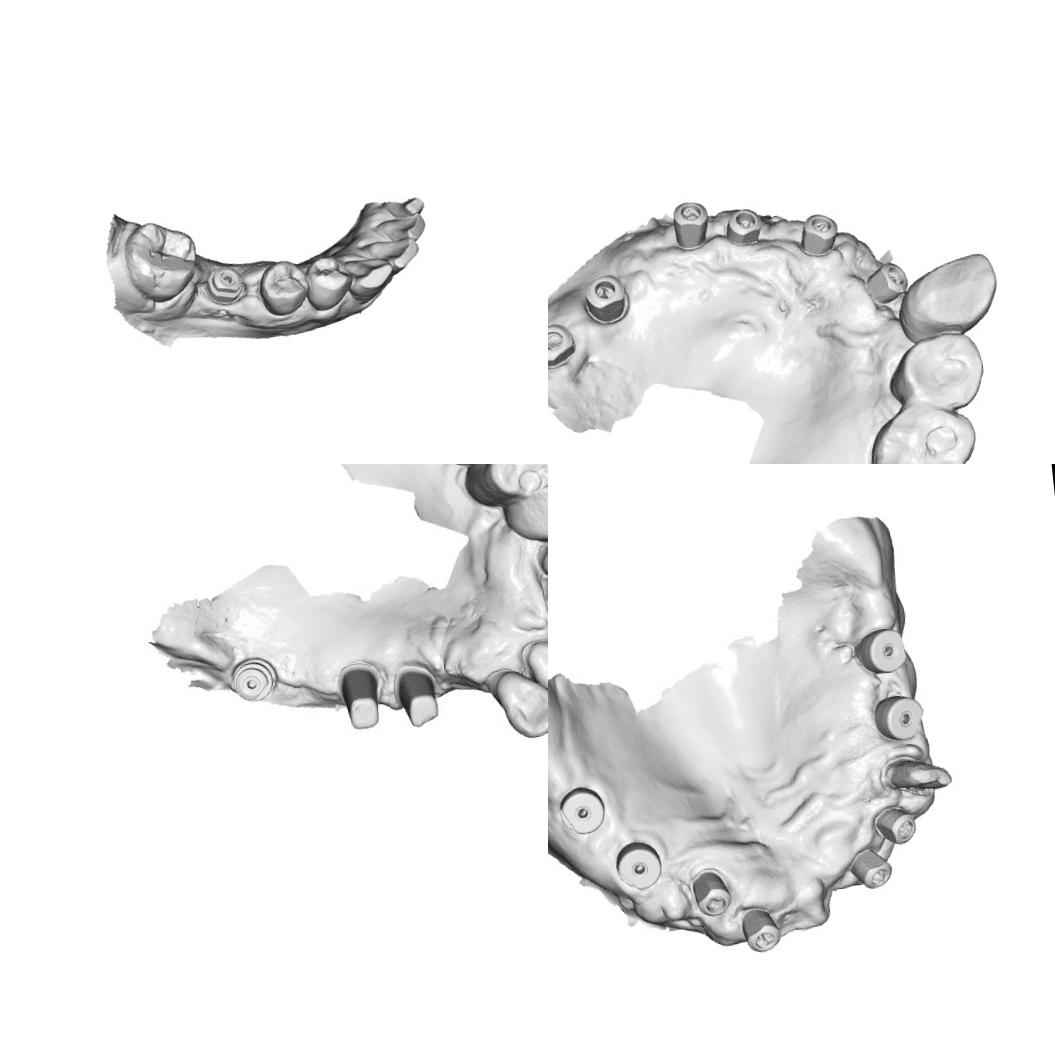abutment: (333, 656, 386, 734), (389, 654, 444, 728)
canine: (895, 248, 1002, 336), (341, 254, 397, 305), (506, 477, 548, 539)
crown: (882, 751, 954, 797)
implant: (226, 649, 285, 705), (870, 692, 928, 745), (853, 625, 909, 678), (612, 837, 664, 894), (556, 782, 608, 838), (576, 271, 628, 322), (846, 843, 896, 892), (688, 867, 734, 920), (668, 198, 710, 253), (737, 904, 782, 954), (870, 802, 918, 848), (863, 259, 911, 301), (798, 208, 842, 251), (720, 204, 762, 246), (548, 320, 575, 366)
implant_minus: (203, 262, 245, 306)
incisor: (487, 660, 548, 739), (362, 236, 422, 274), (522, 632, 548, 710), (374, 212, 428, 246), (379, 196, 425, 221)
molar: (863, 397, 983, 464), (120, 216, 204, 306), (482, 464, 548, 502)
premolar: (882, 330, 988, 415), (254, 256, 312, 318), (303, 251, 354, 313)
